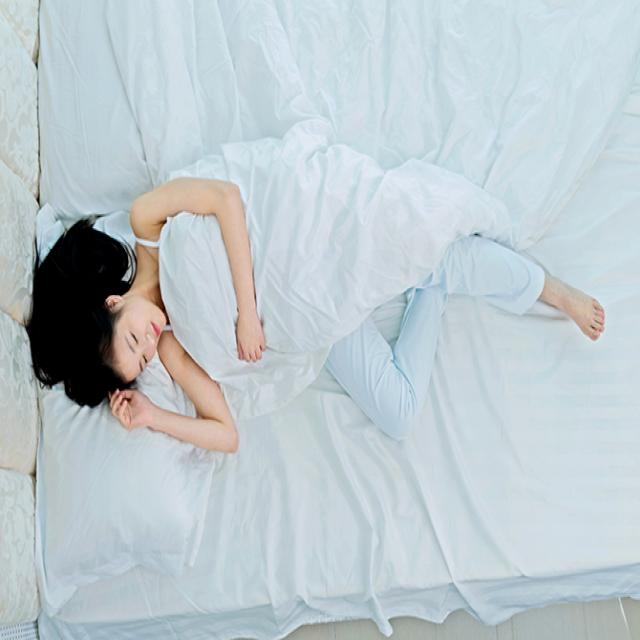people: (27, 114, 618, 458)
